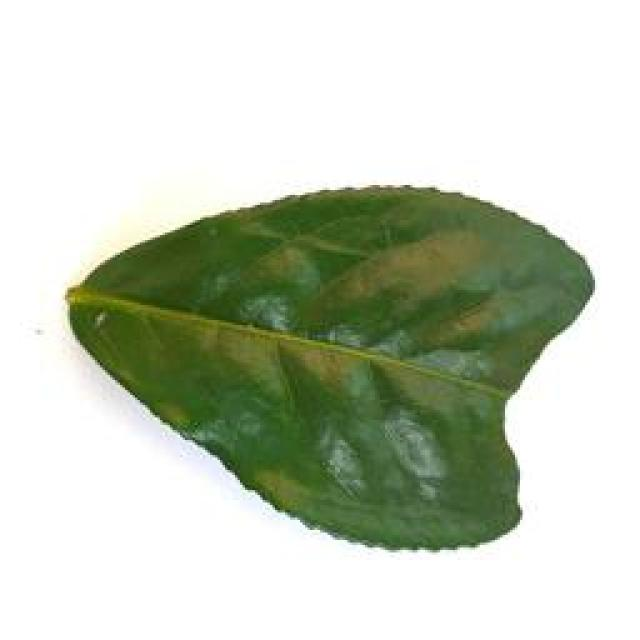Healthy: (49, 162, 602, 554)
